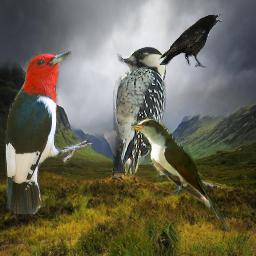Crow: (158, 13, 224, 69)
Cuckoo: (131, 116, 230, 230)
Woodpecker: (4, 50, 93, 214), (113, 46, 166, 178)
